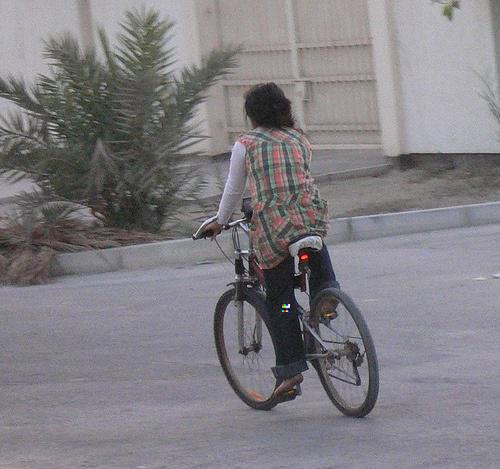car: (190, 197, 383, 419)
person: (210, 82, 344, 394)
